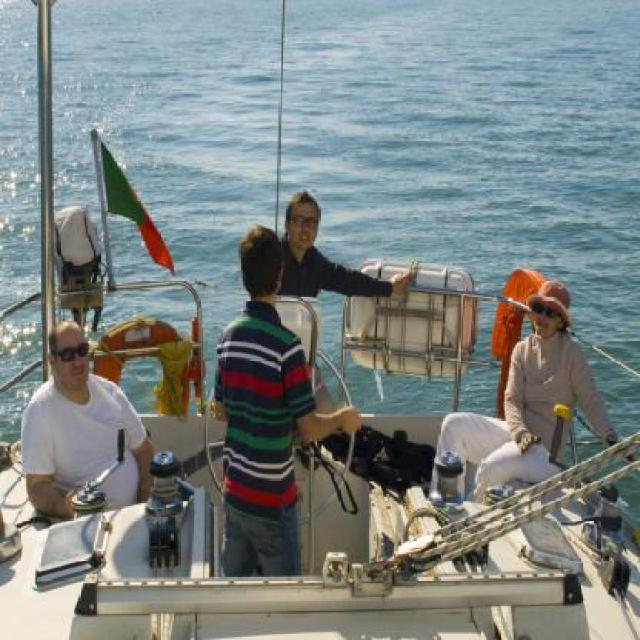Person: (211, 225, 364, 578), (434, 276, 620, 502), (18, 321, 158, 522), (270, 194, 408, 306)
